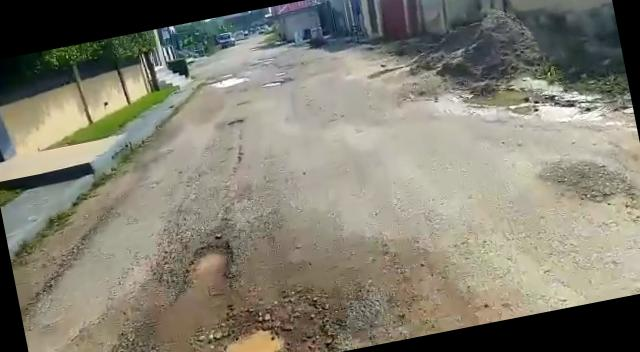pothole: (170, 236, 242, 297), (219, 317, 291, 352), (204, 72, 251, 90)
